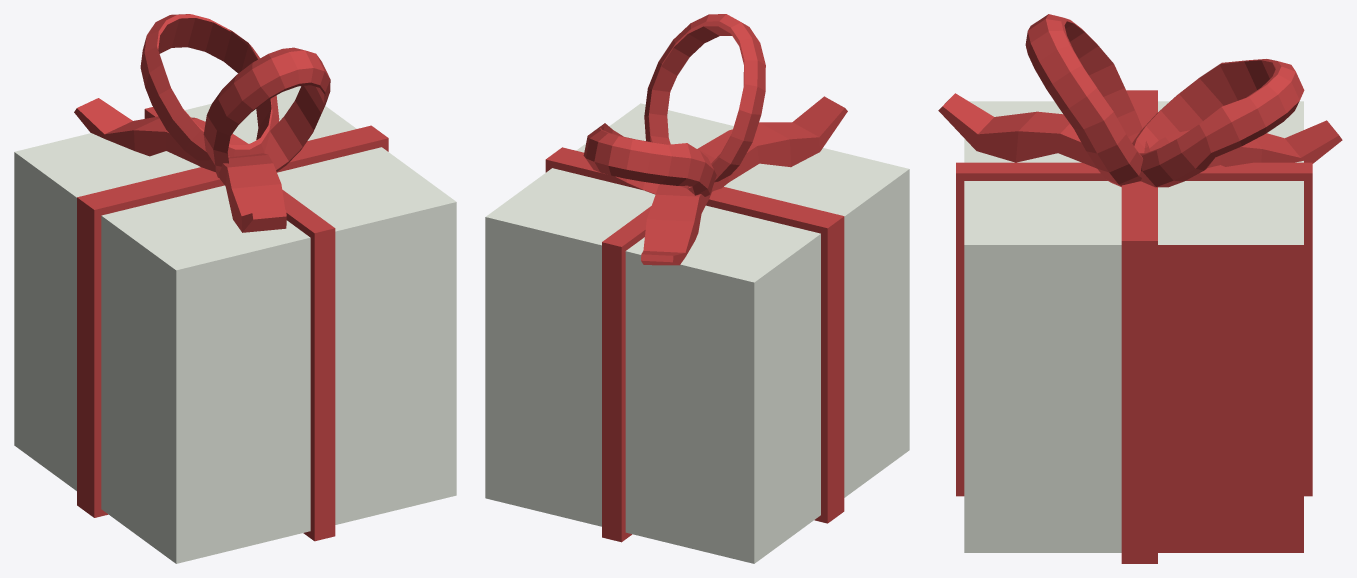
File: gift_box_model.fbx
The picture shows the model from 3 angles, left to right: view 1: azimuth 30°, elevation 25°; view 2: azimuth 150°, elevation 25°; view 3: azimuth 270°, elevation 25°; orthographic projection. The views are drawn at different scales.
Parts seen in each view (by area): view 1: box1; view 2: box1; view 3: box1.
Part boxes in pixels (<box>): box1: <box>14,14,456,563</box>; box1: <box>485,14,909,563</box>; box1: <box>938,14,1342,563</box>.
Size of the model in its own units: 33.97 by 50.03 by 38.54.
1 material, 1 textured.
